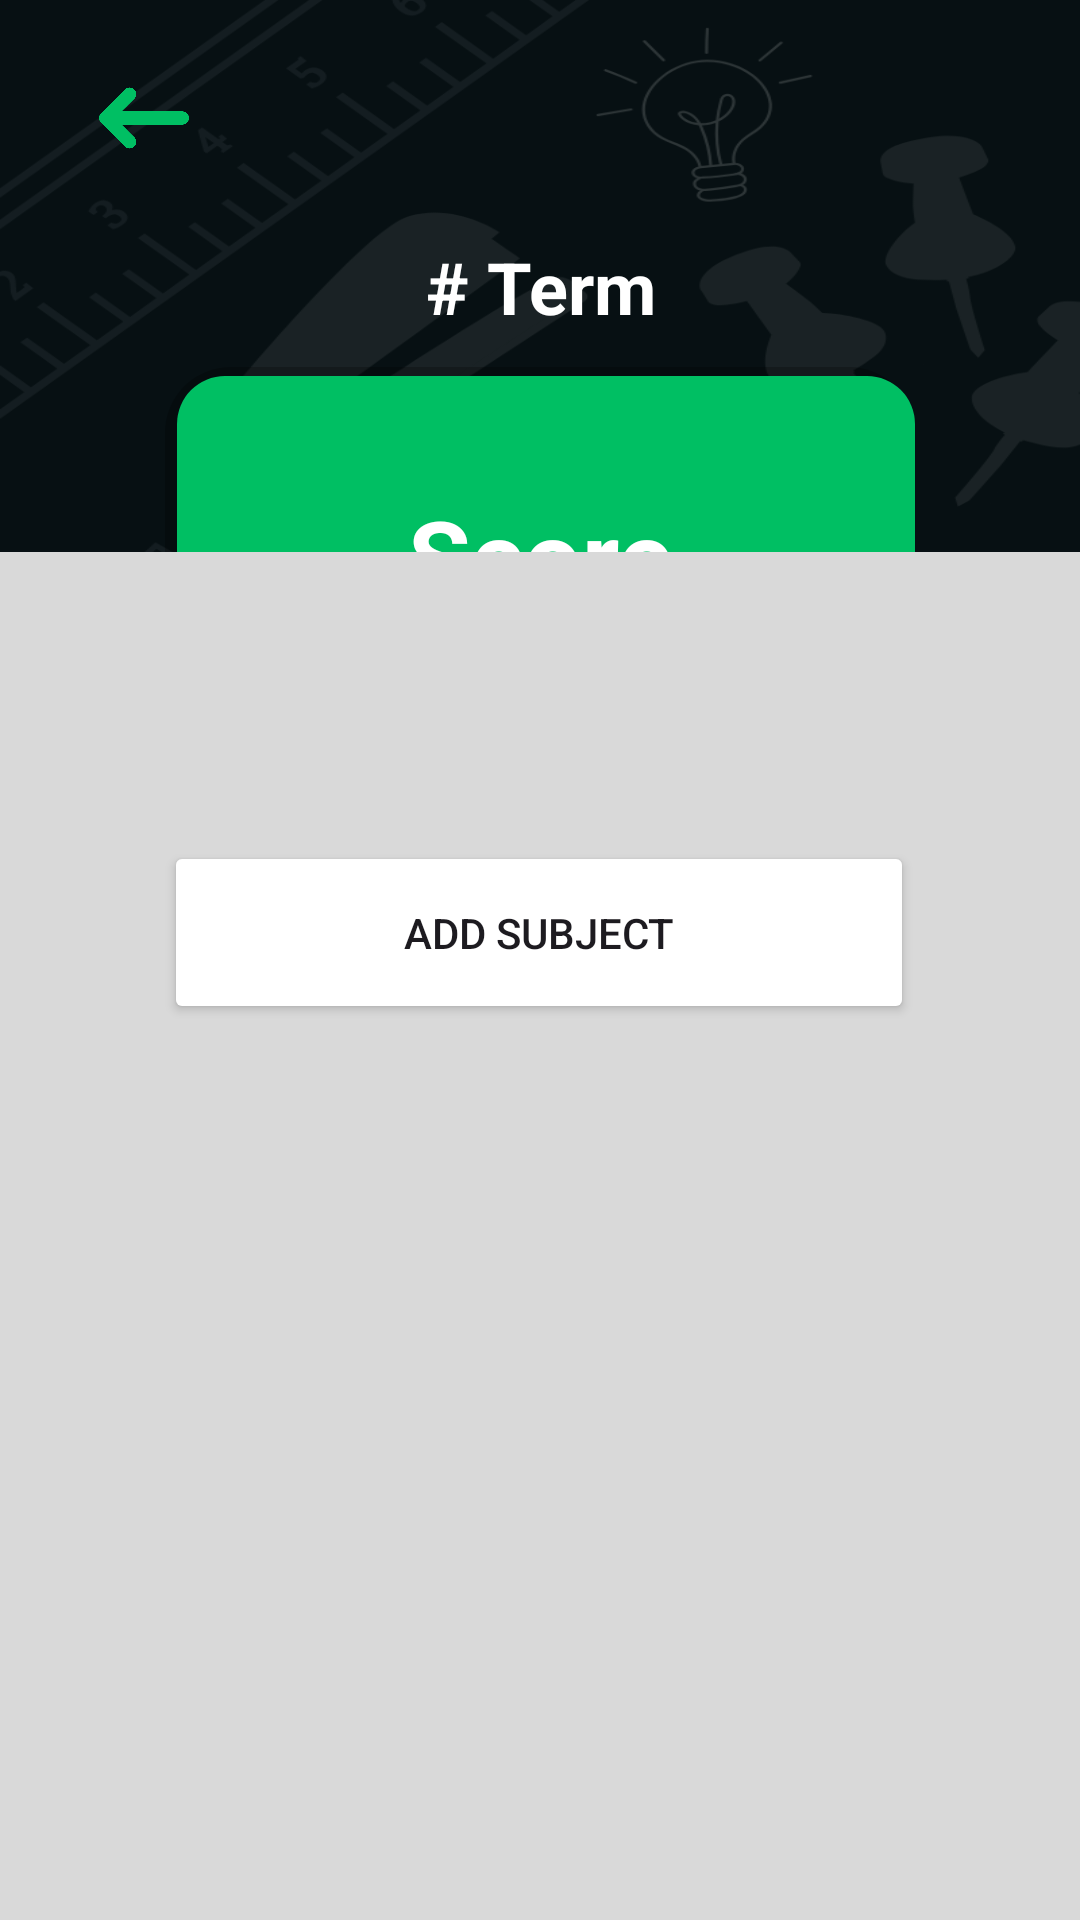

Point at icon controls on the screen. Image size 1080*1920, points as point (x, y).
back: point (144, 118)
